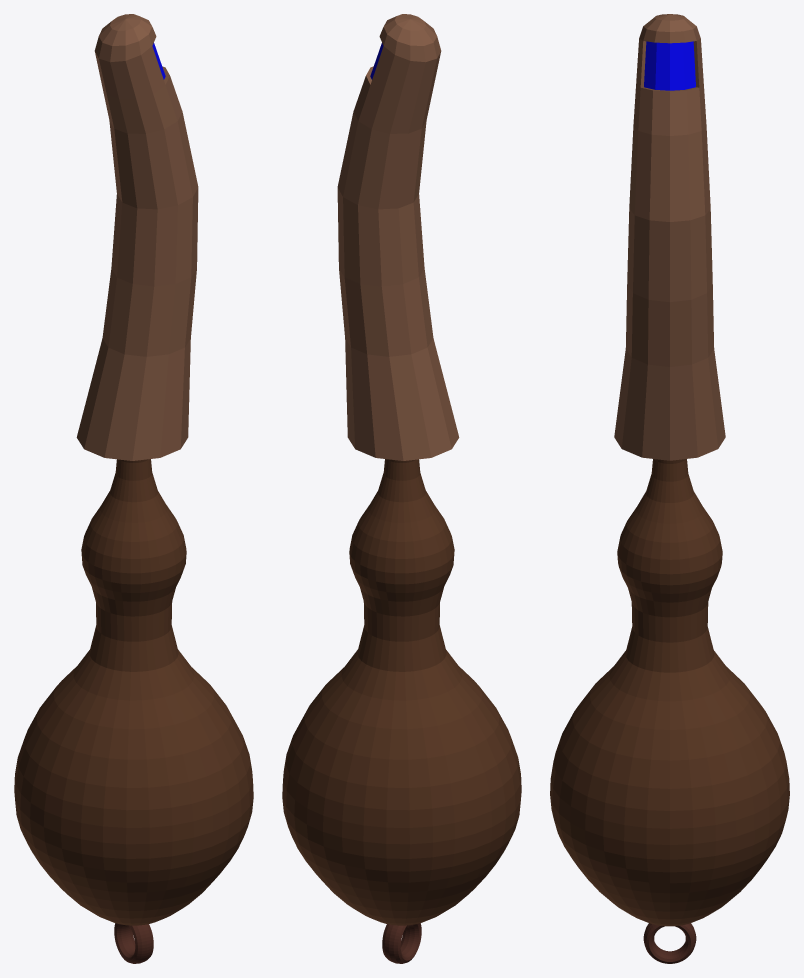
File: Wand 641.glb
The picture shows the model from 3 angles, left to right: view 1: azimuth 30°, elevation 25°; view 2: azimuth 150°, elevation 25°; view 3: azimuth 270°, elevation 25°; orthographic projection.
Parts seen in each view (by area): view 1: GeneratedWand; view 2: GeneratedWand; view 3: GeneratedWand.
Part boxes in pixels (x1,y1,x2,y2): GeneratedWand: (14,14,253,963); GeneratedWand: (282,14,521,963); GeneratedWand: (550,14,789,963).
Bounding box in the file's own units: 0.123 × 0.534 × 0.123.
